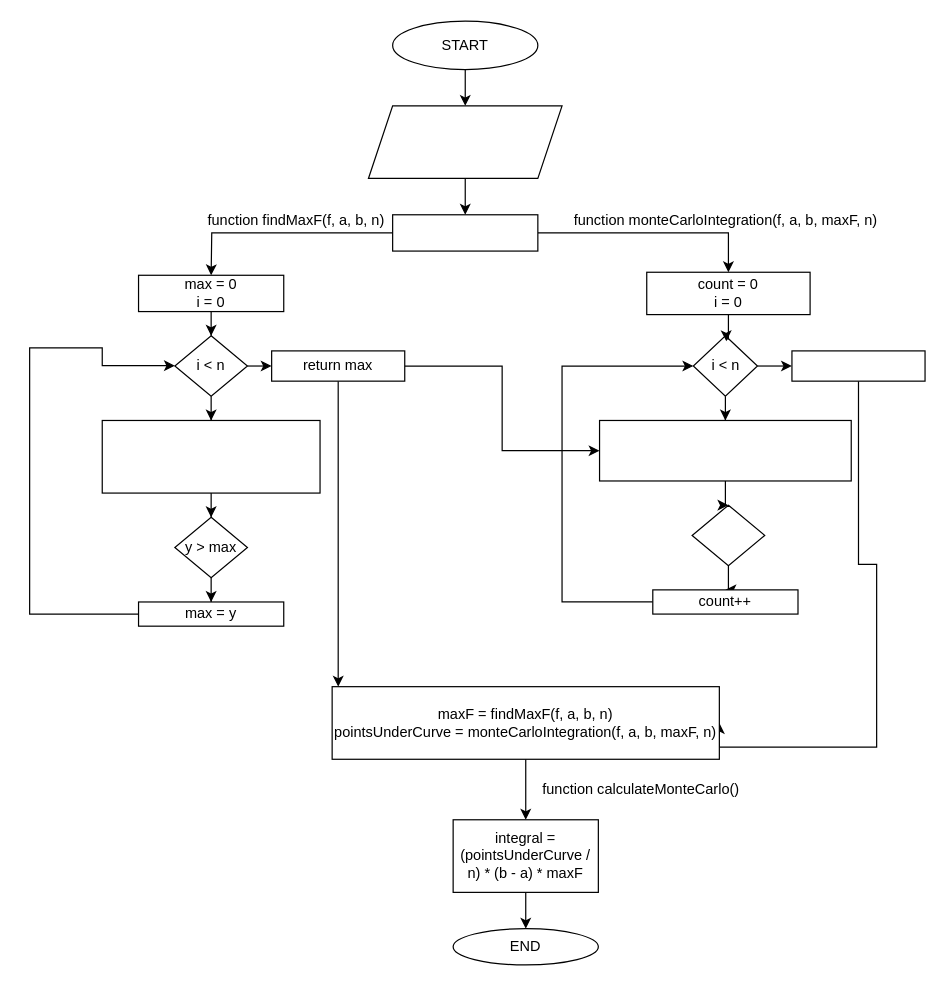
The diagram is 946 pixels wide and 986 high, and some of its shapes have lost their labels. The box of each missing label's shape, as (x1, y1, x2, y2) in pixels:
a, b, c, f(x)(string): (367, 105, 562, 178)
convert f(x)(string) to function: (391, 214, 538, 251)
return count: (791, 350, 925, 381)
x = a + (b - a) * Math.random() y = findMaxF() * Math.random();: (598, 419, 851, 481)
x = a + (b - a) * Math.random() y = Math.abs(f(x)): (101, 419, 320, 493)
y > f(x): (691, 504, 765, 566)
